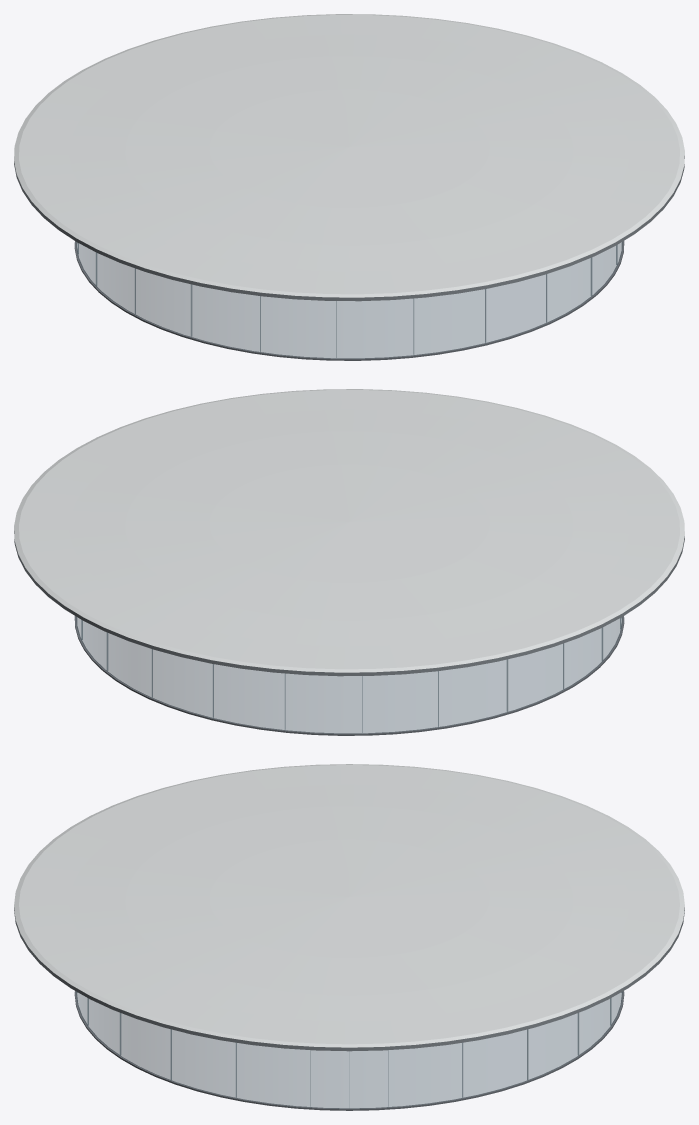
The model's file is sf-steve-jobs-theater.glb.
3 views of the same model, one above another, from view 1: azimuth 30°, elevation 25°; view 2: azimuth 150°, elevation 25°; view 3: azimuth 270°, elevation 25° (orthographic).
Parts seen in each view (by area): view 1: Steve Jobs Theater; view 2: Steve Jobs Theater; view 3: Steve Jobs Theater.
Boxes of the visible parts, x1=… form: Steve Jobs Theater: x1=14, y1=14, x2=684, y2=360; Steve Jobs Theater: x1=14, y1=389, x2=684, y2=735; Steve Jobs Theater: x1=14, y1=764, x2=684, y2=1110.
Bounding box in the file's own units: 47.9 × 7.68 × 47.9.
